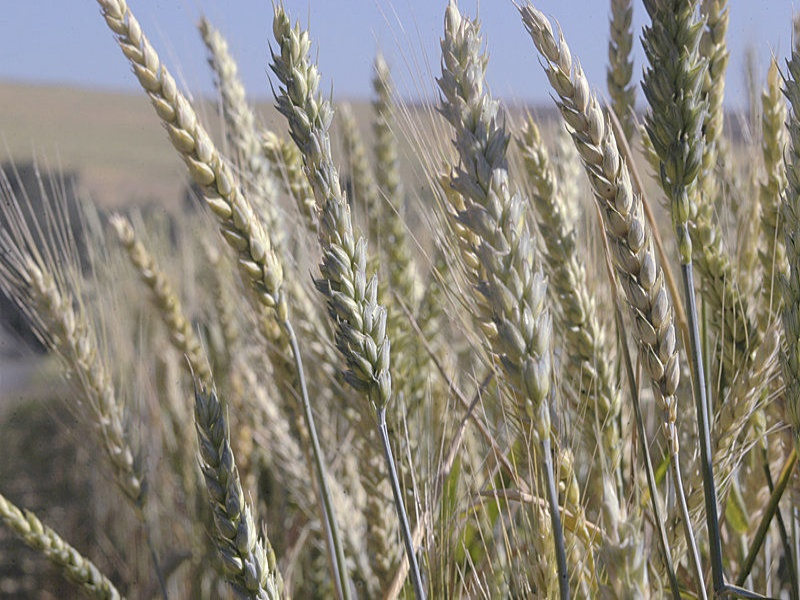wheat: (516, 1, 710, 465), (88, 1, 304, 400), (408, 1, 562, 423), (257, 1, 404, 441), (1, 114, 156, 513), (660, 235, 786, 565), (164, 341, 286, 595), (602, 1, 732, 226), (1, 483, 116, 596), (755, 32, 800, 259)
